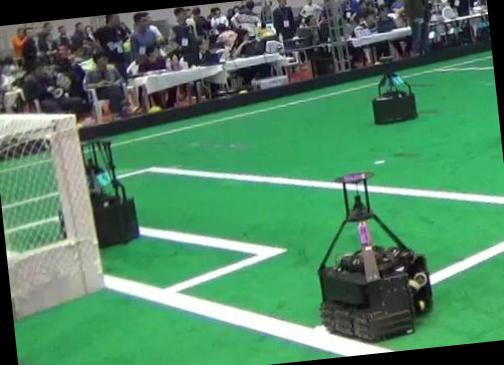robot: (318, 172, 432, 341), (82, 140, 138, 244), (372, 73, 416, 123)
